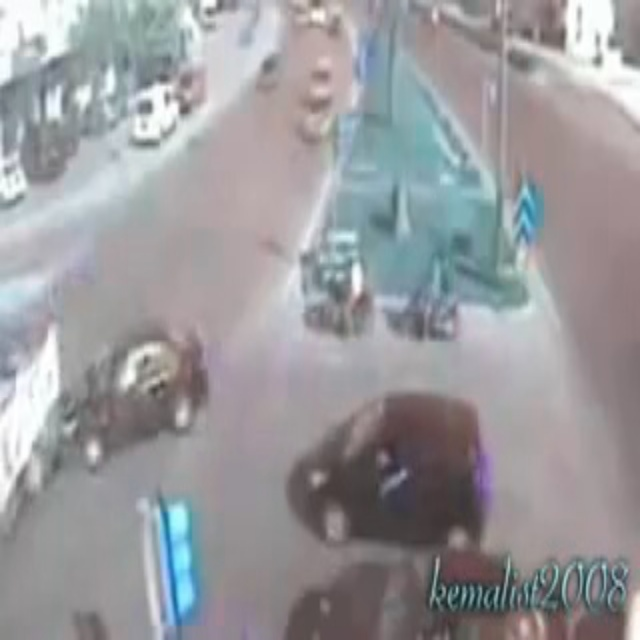acc: (14, 312, 206, 463)
